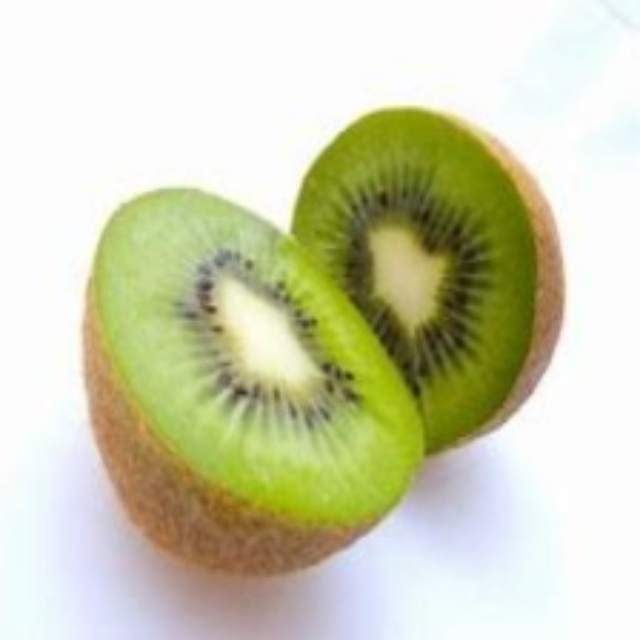kiwi: (73, 187, 423, 586), (300, 103, 565, 460)
